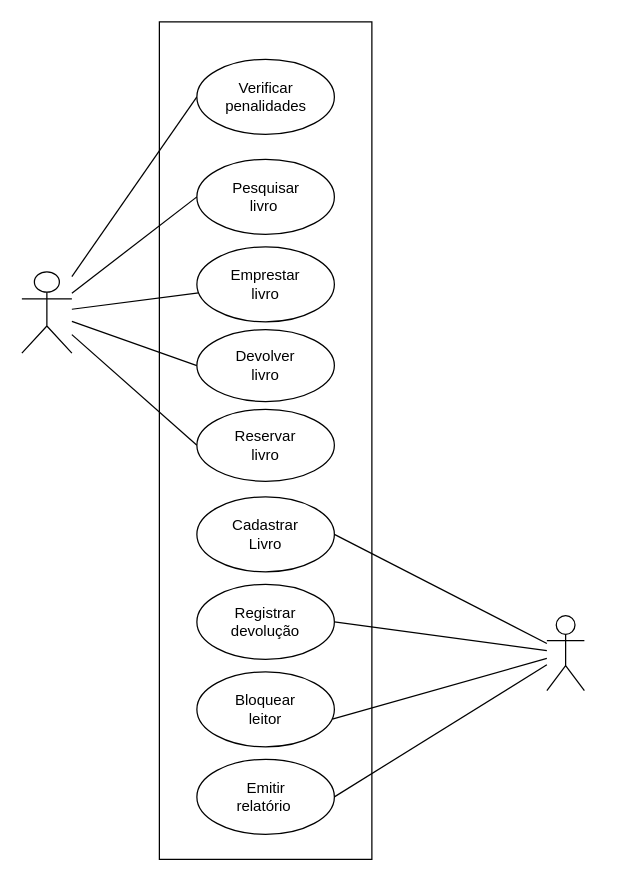
The diagram is 628 pixels wide and 881 high, and some of its shapes have lost their labels. The centre of each missing label's shape, as x and y in pixels:
Bibliotecario: [565,652]
Leitor: [46,312]
